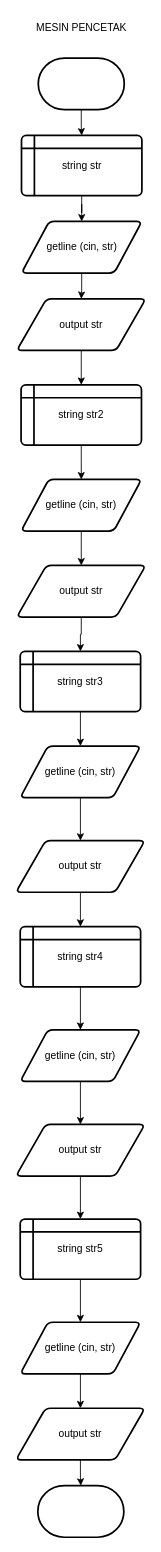
Image size: 161x1552. Some labels were removed from this diagram. The centre of each missing label's shape, as x and y in pixels:
end: point 80,1511
main: point 81,83
